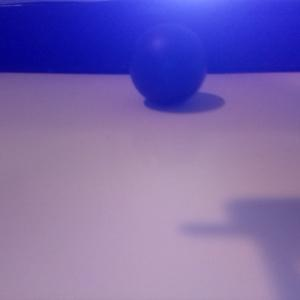dead_ball: (130, 22, 206, 102)
